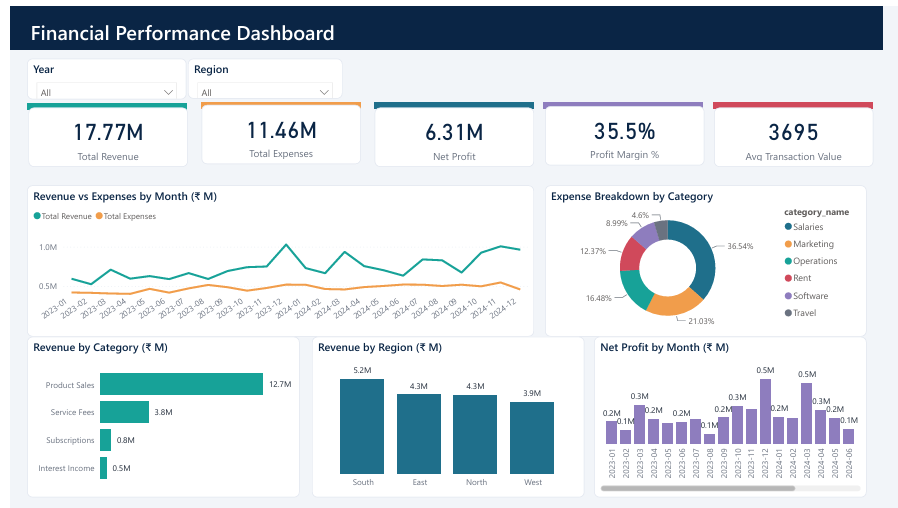

Layout of this report page (visuals, bound fields, positions):
{"tool":"powerbi","page":{"name":"Executive Overview","canvas":[1280,720],"ordinal":0},"visuals":[{"type":"textbox","box":[0,0,1280,64],"z":0},{"type":"textbox","box":[24,12,720,40],"z":1000},{"type":"textbox","box":[760,20,496,26],"z":2000},{"type":"slicer","title":"Year","fields":{"Values":["Date.year"]},"box":[24.6,64.3,221.1,69.9],"z":3000},{"type":"slicer","title":"Region","fields":{"Values":["vw_transactions.region"]},"box":[258.9,64.3,221.1,69.9],"z":4000},{"type":"textbox","box":[24,134,233.6,5],"z":5000},{"type":"card","fields":{"Values":["_Measures.Total Revenue"]},"box":[24,139,233.6,87],"z":6000},{"type":"textbox","box":[273.6,134,233.6,5],"z":7000},{"type":"card","fields":{"Values":["_Measures.Total Expenses"]},"box":[273.6,139,233.6,87],"z":8000},{"type":"textbox","box":[523.2,134,233.6,5],"z":9000},{"type":"card","fields":{"Values":["_Measures.Net Profit"]},"box":[523.2,139,233.6,87],"z":10000},{"type":"textbox","box":[772.8,134,233.6,5],"z":11000},{"type":"card","fields":{"Values":["_Measures.Profit Margin %"]},"box":[772.8,139,233.6,87],"z":12000},{"type":"textbox","box":[1022.4,134,233.6,5],"z":13000},{"type":"card","fields":{"Values":["_Measures.Avg Transaction Value"]},"box":[1022.4,139,233.6,87],"z":14000},{"type":"lineChart","title":"Revenue vs Expenses by Month (₹ M)","fields":{"Category":["Date.period"],"Y":["_Measures.Total Revenue","_Measures.Total Expenses"]},"box":[24,238,744,222],"z":15000},{"type":"donutChart","title":"Expense Breakdown by Category","fields":{"Category":["vw_transactions.category_name"],"Y":["_Measures.Total Expenses"]},"box":[784,238,472,222],"z":16000},{"type":"clusteredBarChart","title":"Revenue by Category (₹ M)","fields":{"Category":["vw_transactions.category_name"],"Y":["_Measures.Total Revenue"]},"box":[24,472,400,236],"z":17000},{"type":"clusteredColumnChart","title":"Revenue by Region (₹ M)","fields":{"Category":["vw_transactions.region"],"Y":["_Measures.Total Revenue"]},"box":[440,472,400,236],"z":18000},{"type":"clusteredColumnChart","title":"Net Profit by Month (₹ M)","fields":{"Category":["Date.period"],"Y":["_Measures.Net Profit"]},"box":[856,472,400,236],"z":19000}]}

Visuals, with their boxes in screenshot pixels (x1, y1, x2, y2), scaled from the page's 1280x720 canvas onto the 898x508 screenshot:
textbox: bbox=(0, 0, 897, 45)
textbox: bbox=(17, 8, 522, 37)
textbox: bbox=(533, 14, 881, 32)
"Year" slicer: bbox=(17, 45, 172, 95)
"Region" slicer: bbox=(182, 45, 337, 95)
textbox: bbox=(17, 95, 181, 98)
card - _Measures.Total Revenue: bbox=(17, 98, 181, 159)
textbox: bbox=(192, 95, 356, 98)
card - _Measures.Total Expenses: bbox=(192, 98, 356, 159)
textbox: bbox=(367, 95, 531, 98)
card - _Measures.Net Profit: bbox=(367, 98, 531, 159)
textbox: bbox=(542, 95, 706, 98)
card - _Measures.Profit Margin %: bbox=(542, 98, 706, 159)
textbox: bbox=(717, 95, 881, 98)
card - _Measures.Avg Transaction Value: bbox=(717, 98, 881, 159)
"Revenue vs Expenses by Month (₹ M)" lineChart: bbox=(17, 168, 539, 325)
"Expense Breakdown by Category" donutChart: bbox=(550, 168, 881, 325)
"Revenue by Category (₹ M)" clusteredBarChart: bbox=(17, 333, 297, 500)
"Revenue by Region (₹ M)" clusteredColumnChart: bbox=(309, 333, 589, 500)
"Net Profit by Month (₹ M)" clusteredColumnChart: bbox=(601, 333, 881, 500)
